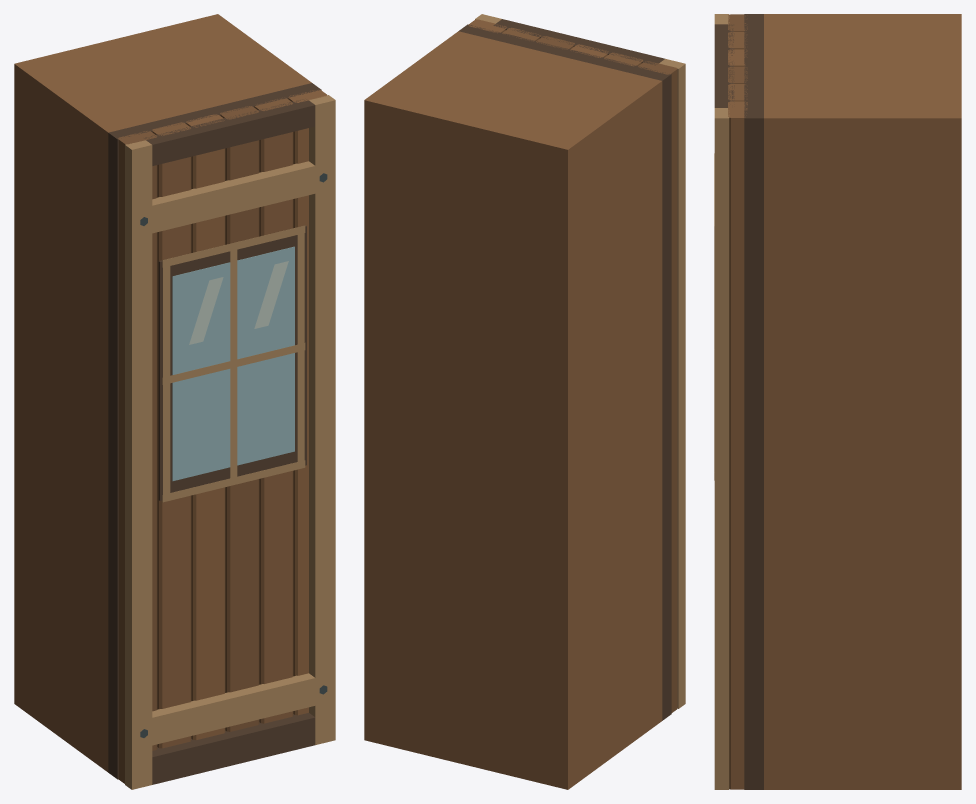
File: wall_barn_window.glb
3 views of the same model, side by side, from view 1: azimuth 30°, elevation 25°; view 2: azimuth 150°, elevation 25°; view 3: azimuth 270°, elevation 25° (orthographic). The views are drawn at different scales.
Visible parts, largest first — view 1: face_front, geometry; view 2: geometry, face_front; view 3: geometry, face_front.
Boxes of the visible parts, x1,y1,x2,y2 form: face_front: (108, 83, 335, 789); geometry: (14, 14, 311, 772); geometry: (364, 31, 662, 789); face_front: (458, 14, 685, 720); geometry: (764, 14, 961, 789); face_front: (714, 14, 763, 789).
Bounding box in the file's own units: 1 × 3 × 1.
